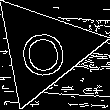O_N: (17, 21, 70, 78)
